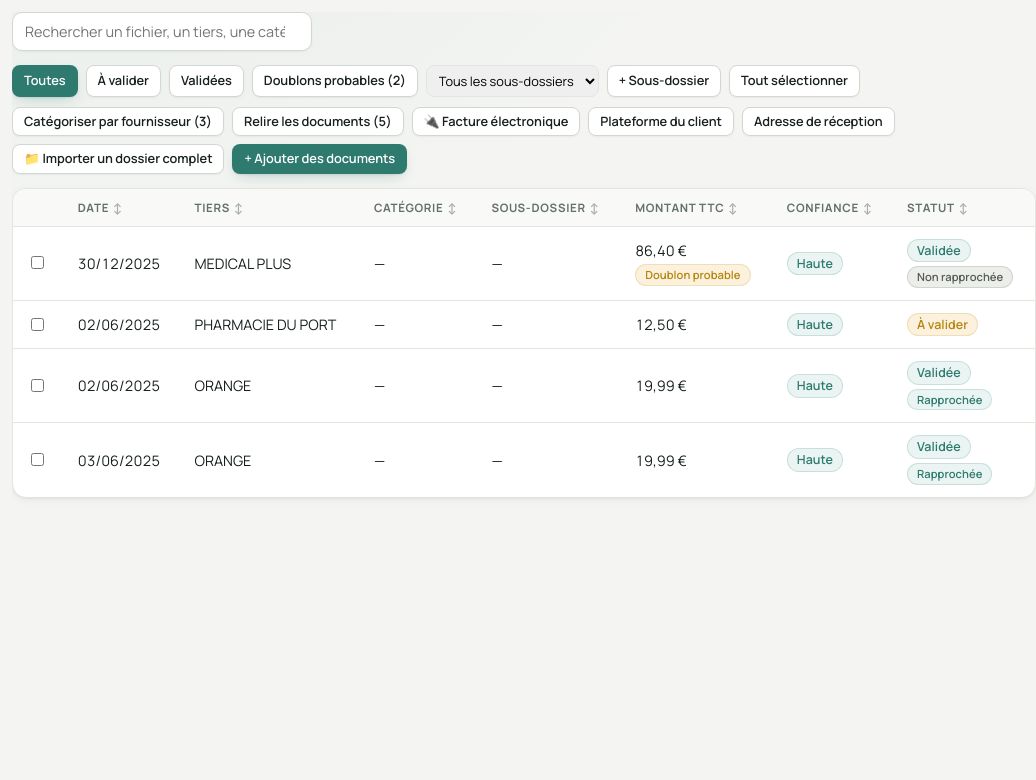
D1 — le même achat entré deux fois se dit dans Justificatifs, et dans la fiche de chacune › la marque sur les deux lignes, le filtre qui les montre par-dessus l’exercice, et la fiche qui nomme l’autre
Expected: the text "Doublon probable" is shown once, [635, 264, 751, 286]
Click the button "Doublons probables (2)" at [335, 81], box [252, 65, 418, 97]
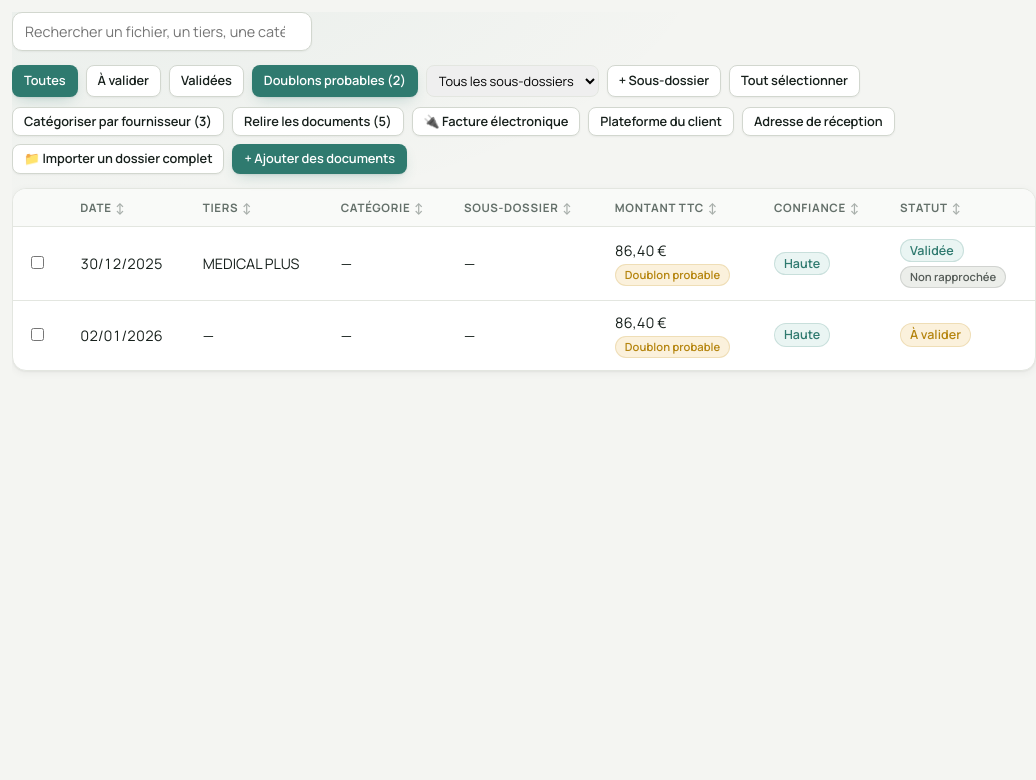
La fiche de la photo nomme le PDF.
Click the cell "02/01/2026" at [127, 335], box [66, 300, 189, 370]
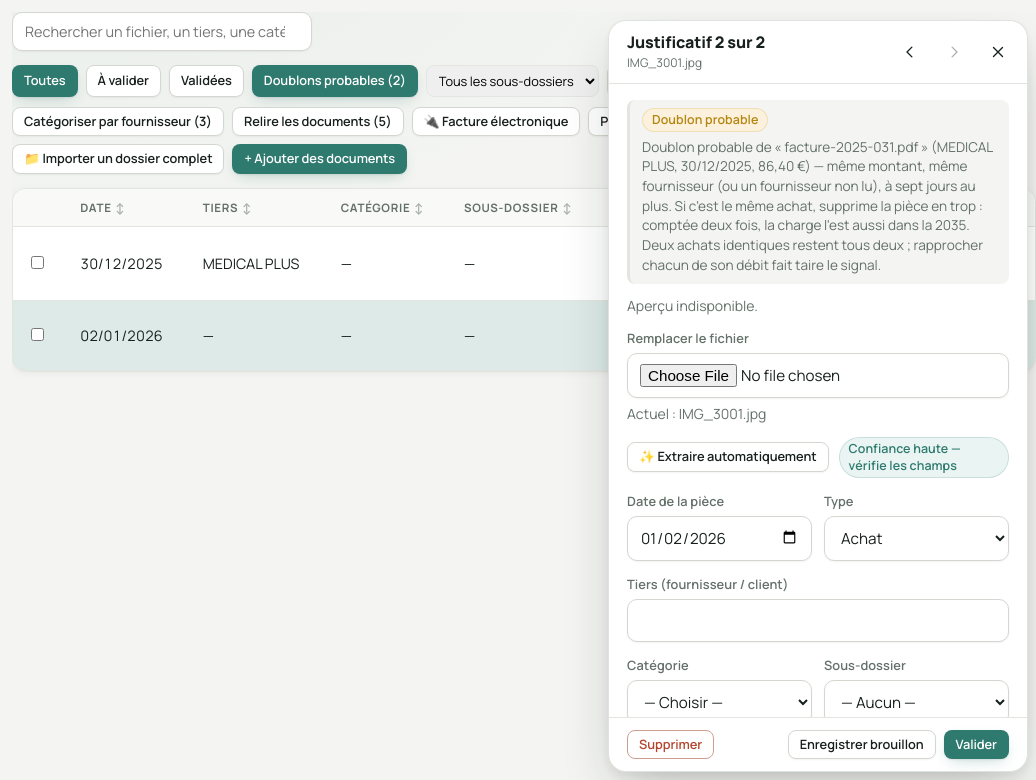
Now the element that starts with "Doublon probable" shows "Doublon probable de « facture-2025-031.pdf » (MEDICAL PLUS, 30/12/2025, 86,40 €)", box [642, 138, 993, 274]
